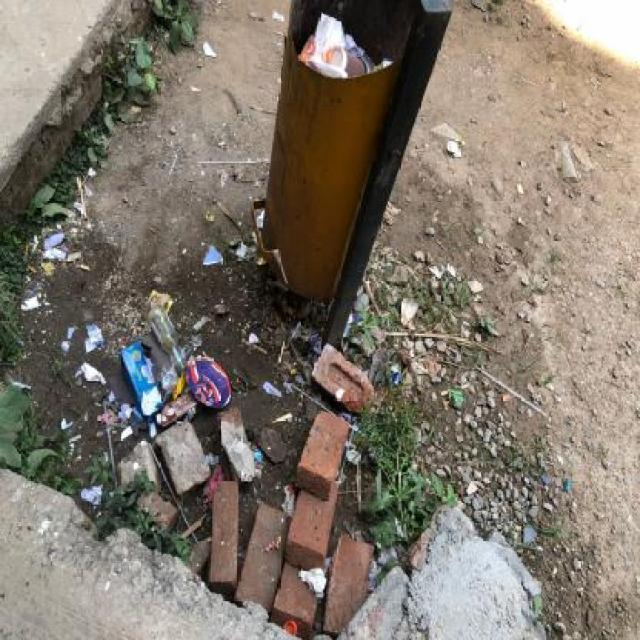garbage: (348, 220, 562, 581), (69, 320, 306, 547), (439, 143, 572, 229), (286, 3, 398, 86), (22, 192, 104, 296), (188, 208, 274, 280), (282, 560, 334, 631), (200, 34, 225, 61)
